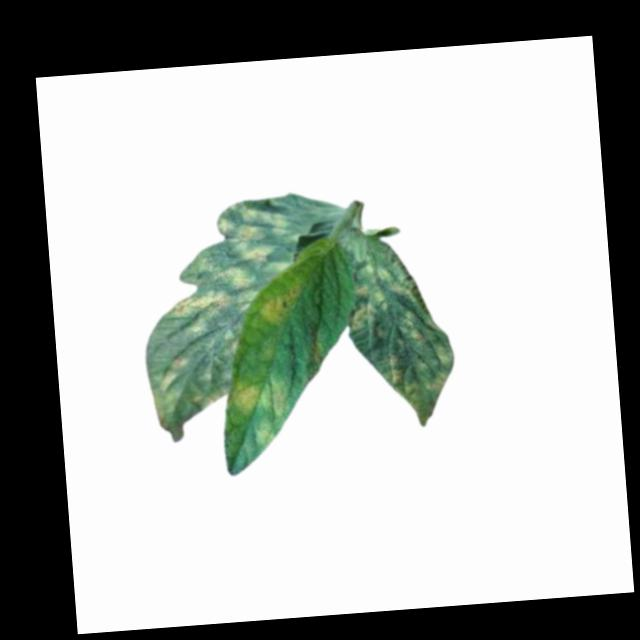Leaf_Mold: (137, 195, 304, 422), (340, 239, 460, 435), (255, 279, 304, 334), (233, 374, 290, 417), (252, 418, 276, 453)
